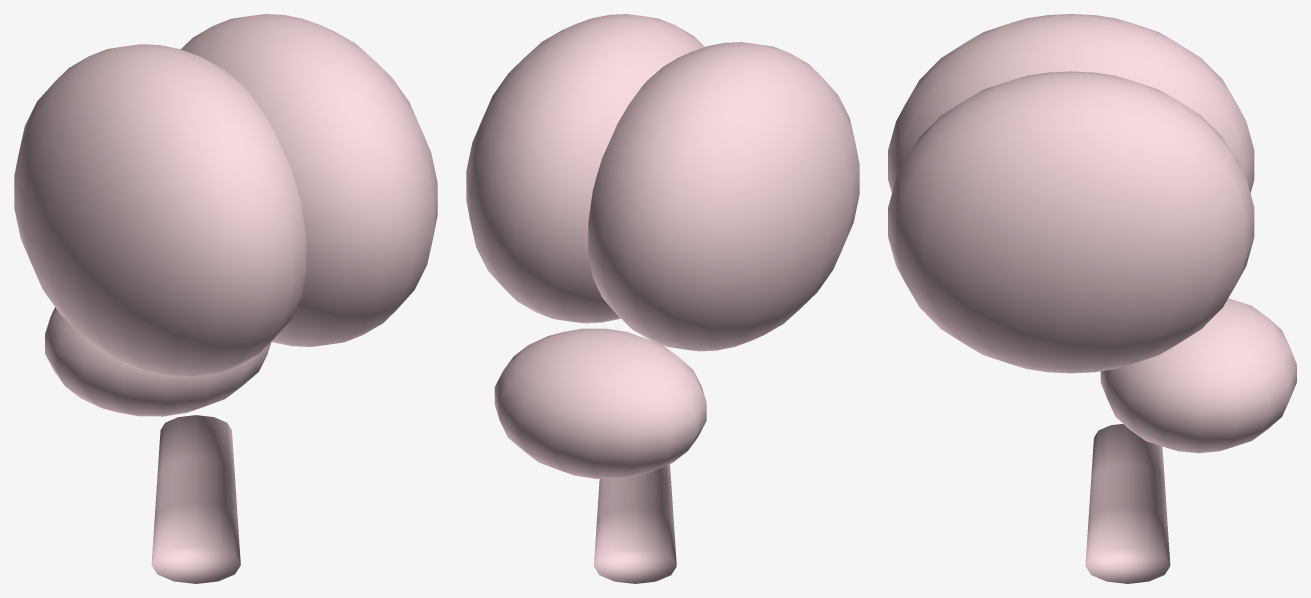
File: brain.glb
3 renders of one model, left to right at view 1: azimuth 30°, elevation 25°; view 2: azimuth 150°, elevation 25°; view 3: azimuth 270°, elevation 25°, orthographic. The views are drawn at different scales.
Parts seen in each view (by area): view 1: organ_brain_hemisphere_l, organ_brain_hemisphere_r, organ_brainstem, organ_cerebellum; view 2: organ_brain_hemisphere_l, organ_brain_hemisphere_r, organ_cerebellum, organ_brainstem; view 3: organ_brain_hemisphere_r, organ_brain_hemisphere_l, organ_cerebellum, organ_brainstem.
Boxes of the visible parts, bbox=[...] form: organ_brain_hemisphere_l: bbox=[14, 44, 306, 377]; organ_brain_hemisphere_r: bbox=[181, 14, 437, 346]; organ_brainstem: bbox=[151, 415, 240, 583]; organ_cerebellum: bbox=[45, 307, 271, 416]; organ_brain_hemisphere_l: bbox=[588, 42, 859, 351]; organ_brain_hemisphere_r: bbox=[466, 14, 704, 323]; organ_cerebellum: bbox=[494, 328, 706, 478]; organ_brainstem: bbox=[594, 464, 676, 583]; organ_brain_hemisphere_r: bbox=[888, 71, 1254, 373]; organ_brain_hemisphere_l: bbox=[888, 14, 1254, 193]; organ_cerebellum: bbox=[1100, 298, 1296, 453]; organ_brainstem: bbox=[1085, 424, 1170, 583].
Bounding box in the file's own units: 0.1375 × 0.2 × 0.1443.
